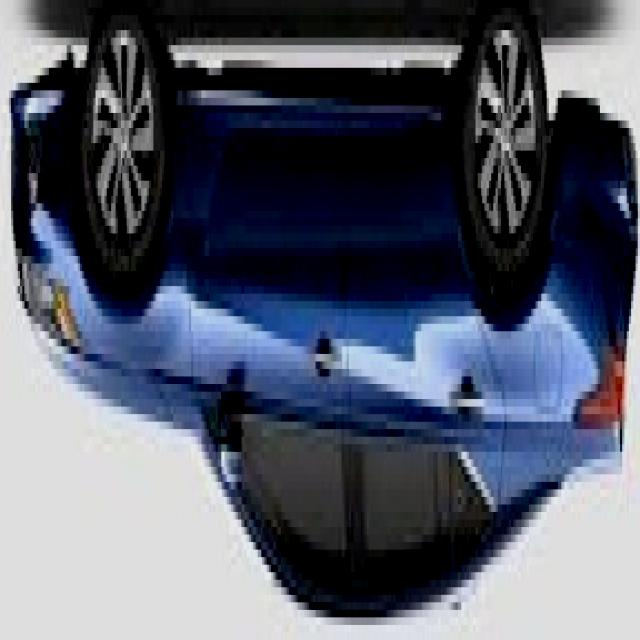blue: (14, 7, 635, 616)
